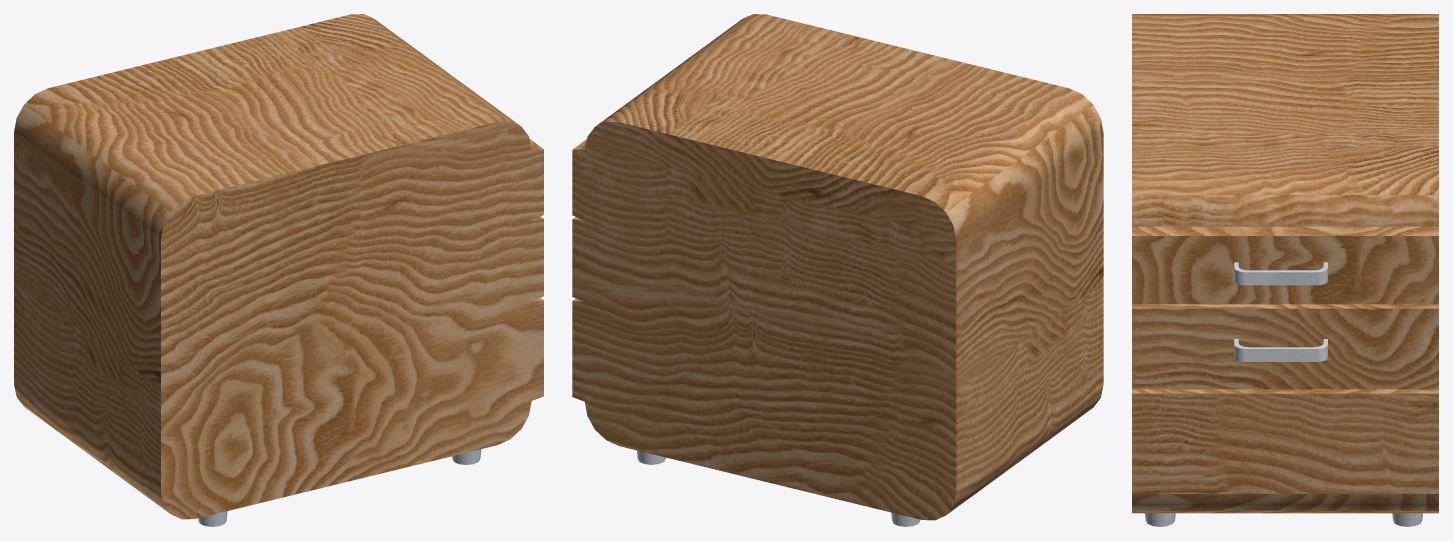
The model's file is SM_DeskDrawer.fbx.
3 renders of one model, left to right at view 1: azimuth 30°, elevation 25°; view 2: azimuth 150°, elevation 25°; view 3: azimuth 270°, elevation 25°, orthographic. The views are drawn at different scales.
Visible parts, largest first — view 1: SM_DeskDrawer_LOD0; view 2: SM_DeskDrawer_LOD0; view 3: SM_DeskDrawer_LOD0.
Boxes of the visible parts, x1,y1,x2,y2 form: SM_DeskDrawer_LOD0: (14, 14, 543, 526); SM_DeskDrawer_LOD0: (572, 14, 1103, 526); SM_DeskDrawer_LOD0: (1132, 14, 1438, 526).
Size of the model in its own units: 98.05 by 61.99 by 79.79.
2 materials, 2 textured.
